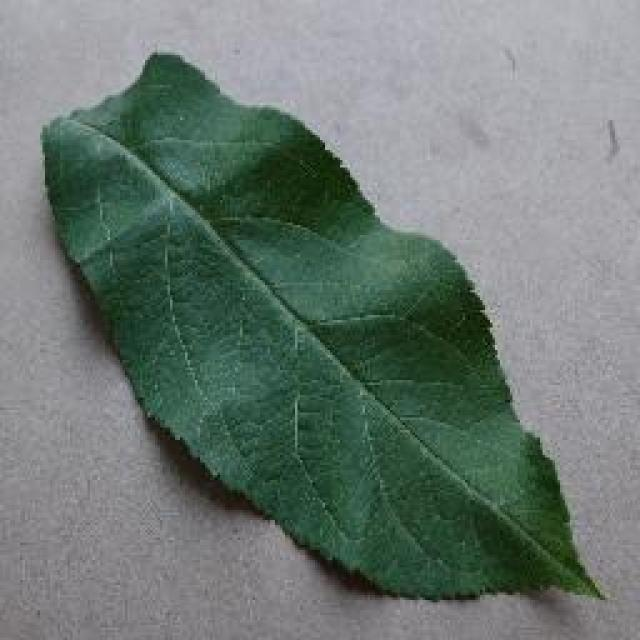apple healthy: (37, 48, 605, 602)
